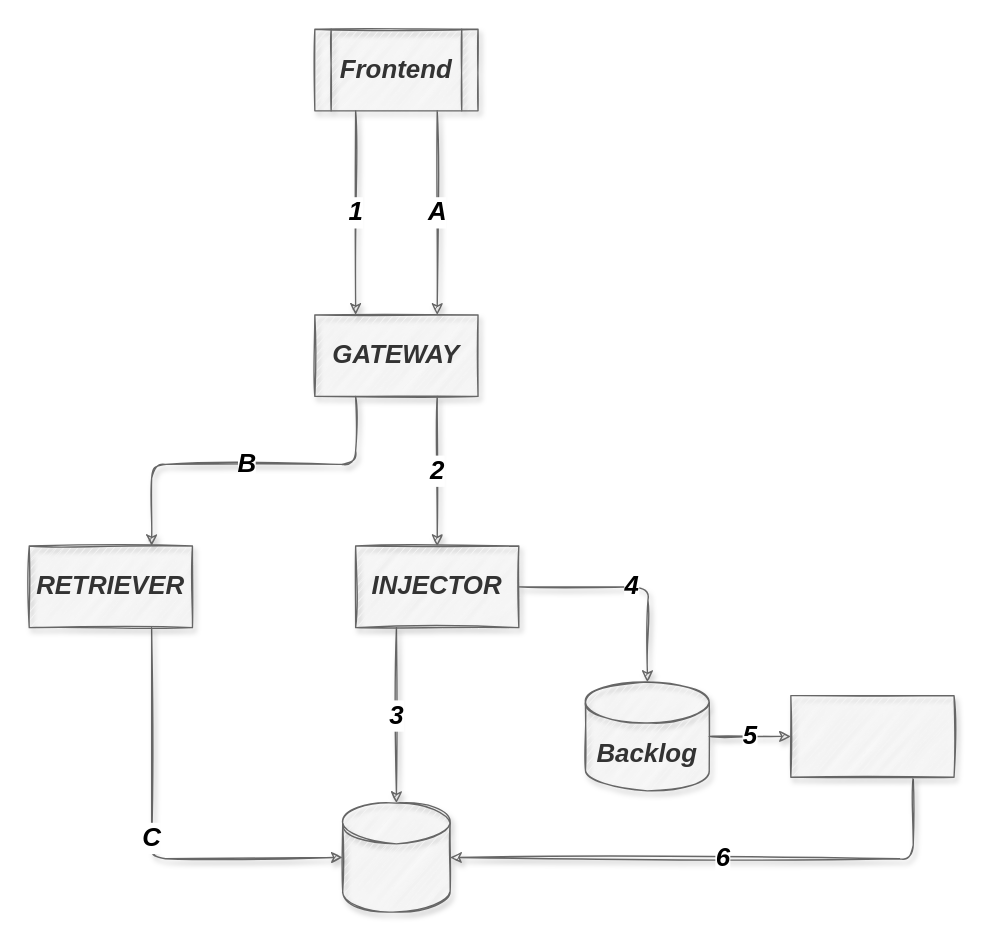
This 986x945 diagram has some shape labels left out. The centre of each missing label's shape, as x and y in pixels:
Storage: point 397,858
WORKER: point 873,738
